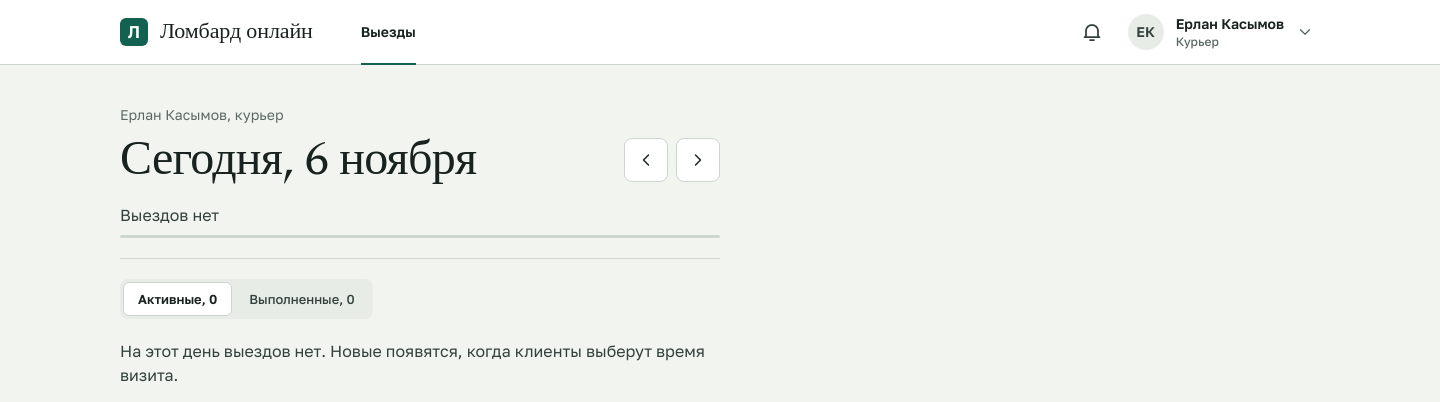
Courier day › switches days and shows an empty day
Expected: the text "На этот день выездов нет" is shown, [120,341,705,385]
Click the button named "Следующий день" at (698, 160), box [676,138,720,182]
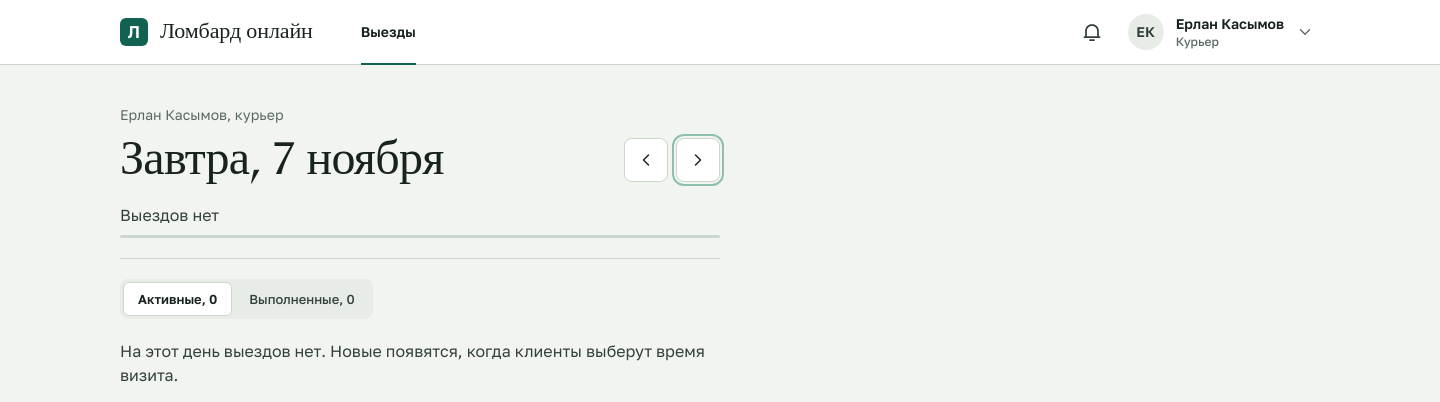
Expected: the heading shows "Завтра,", [120,123,444,196]
